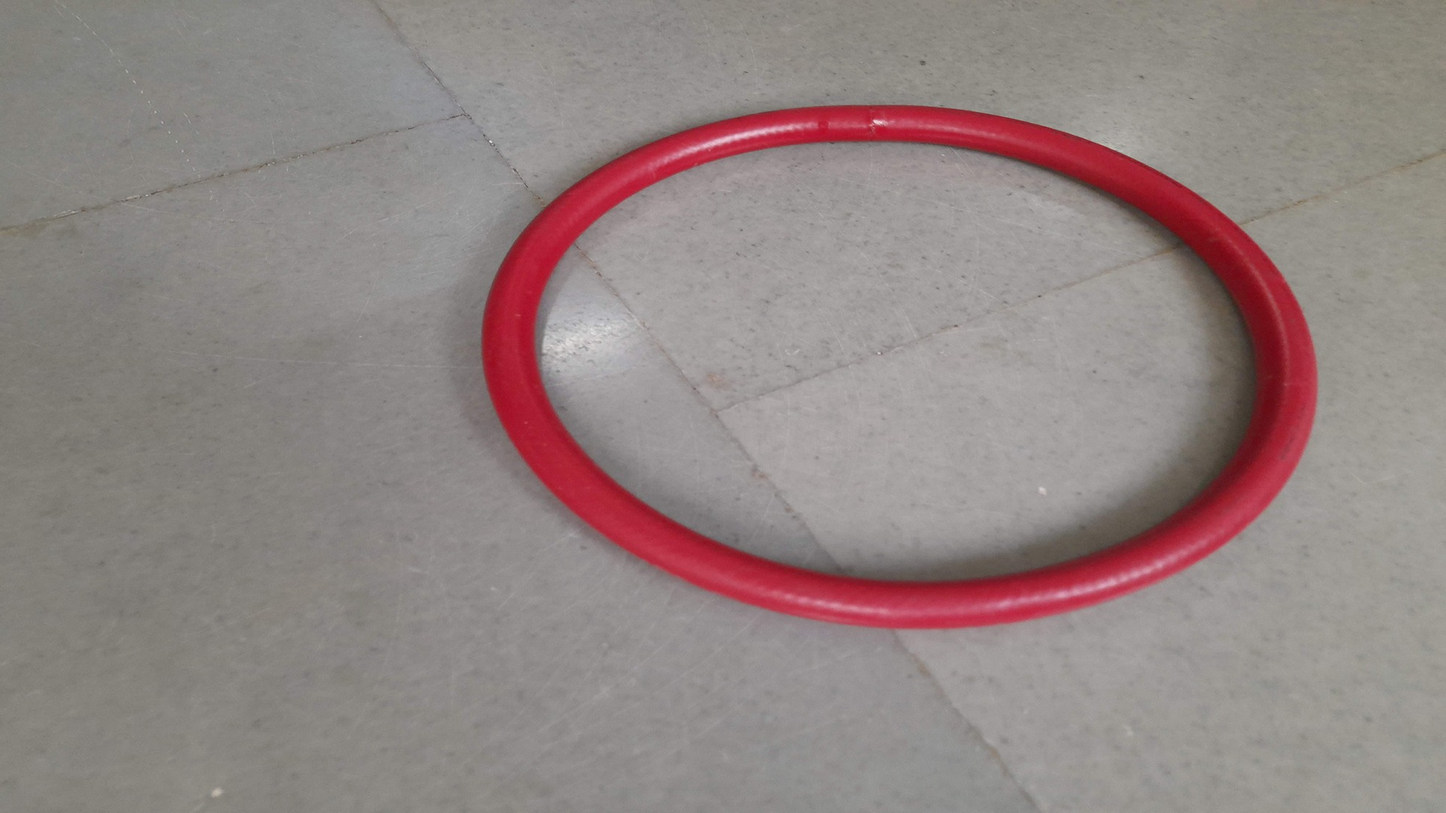Red ring: (486, 102, 1319, 631)
